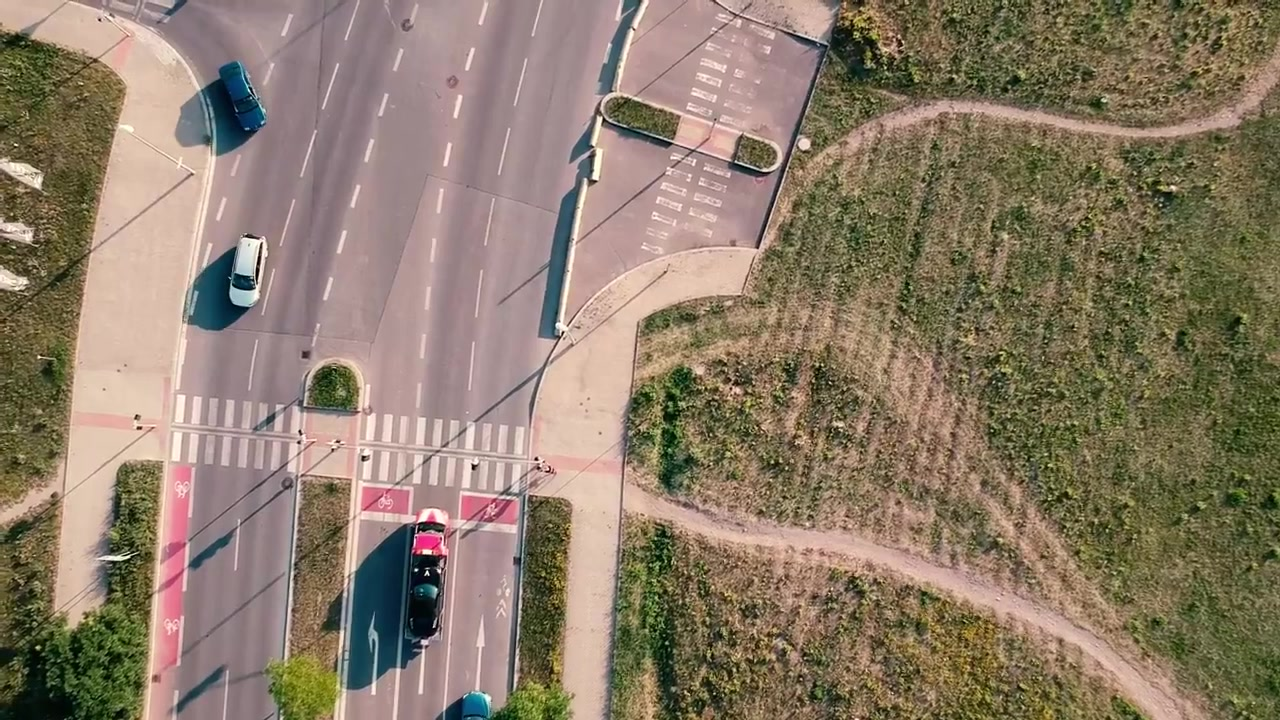car: (405, 504, 453, 646), (213, 59, 268, 134), (225, 229, 271, 311), (457, 690, 491, 720)
